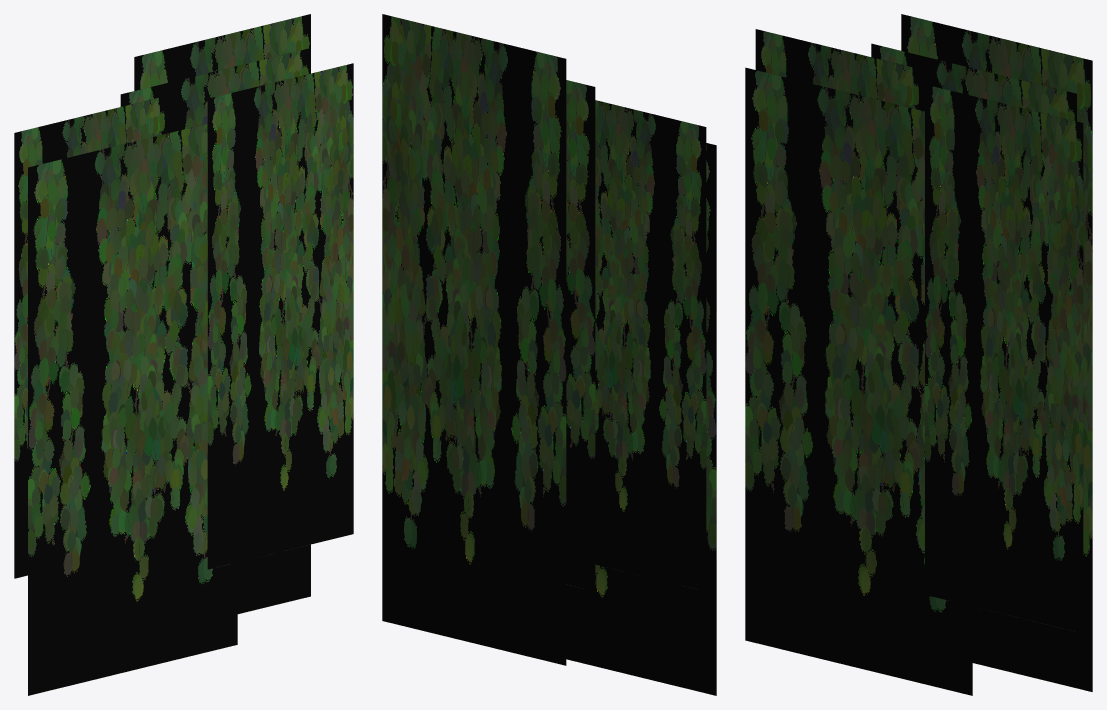
File: Prop_Vine2_LOD1.gltf
3 views of the same model, side by side, from view 1: azimuth 30°, elevation 25°; view 2: azimuth 150°, elevation 25°; view 3: azimuth 330°, elevation 25° (orthographic). The views are drawn at different scales.
Parts seen in each view (by area): view 1: Prop_Vine2_LOD1; view 2: Prop_Vine2_LOD1; view 3: Prop_Vine2_LOD1.
Part boxes in pixels (box(x1,y1,x2,y2)): Prop_Vine2_LOD1: box(14, 14, 353, 695); Prop_Vine2_LOD1: box(382, 14, 716, 695); Prop_Vine2_LOD1: box(745, 14, 1092, 695).
Size of the model in its own units: 1.37 by 2.43 by 0.1915.
Materials: 1 (1 with a texture image).
